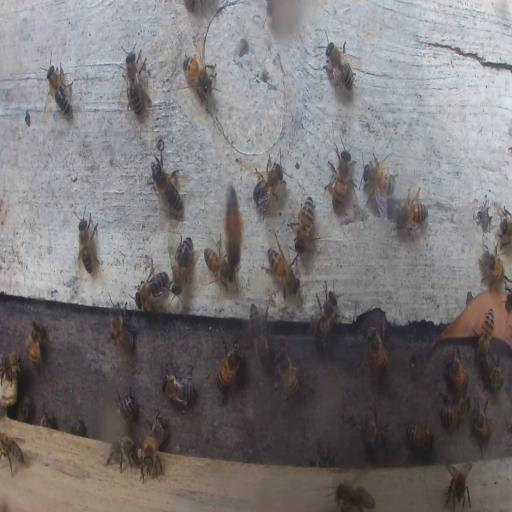bee: (360, 149, 400, 214), (325, 134, 355, 212), (222, 180, 247, 272), (150, 156, 184, 214), (251, 156, 284, 214), (182, 50, 217, 104), (265, 244, 299, 298), (203, 237, 237, 291), (324, 38, 356, 95), (311, 288, 339, 347), (215, 336, 243, 394), (122, 49, 146, 116), (44, 63, 73, 118), (444, 461, 474, 511), (76, 210, 99, 275), (332, 478, 377, 511), (108, 304, 136, 354), (393, 195, 429, 233), (248, 301, 270, 363), (274, 346, 300, 397), (170, 234, 194, 288), (161, 368, 195, 406), (136, 270, 170, 307), (470, 400, 493, 452), (106, 435, 139, 471), (361, 412, 390, 452), (0, 349, 22, 400), (438, 395, 470, 430), (294, 196, 314, 252), (0, 433, 25, 475), (444, 352, 469, 393), (366, 324, 388, 370), (482, 246, 505, 285), (141, 435, 161, 479), (404, 424, 435, 452), (28, 318, 43, 375), (478, 307, 494, 358), (149, 412, 166, 450), (117, 390, 134, 422), (488, 357, 502, 391), (17, 394, 32, 422), (500, 208, 512, 240), (40, 407, 57, 427), (316, 447, 330, 467)
